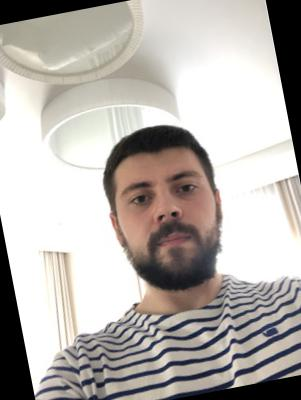without_mask: (113, 160, 229, 301)
